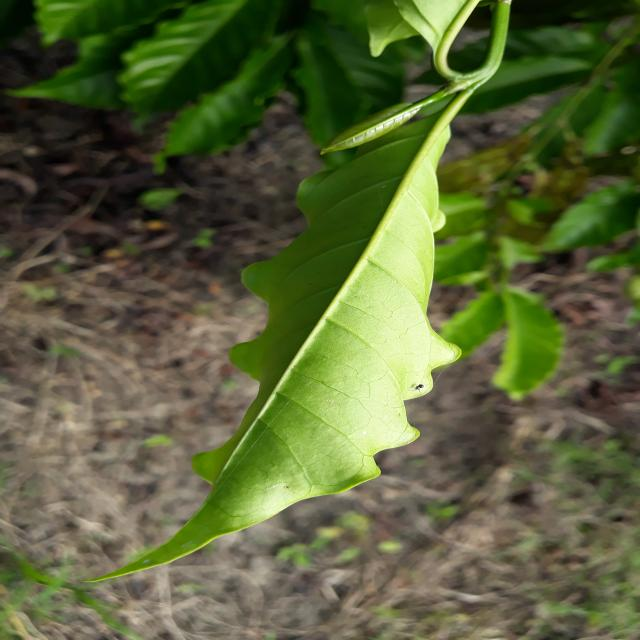Sanas: (109, 65, 497, 578)
